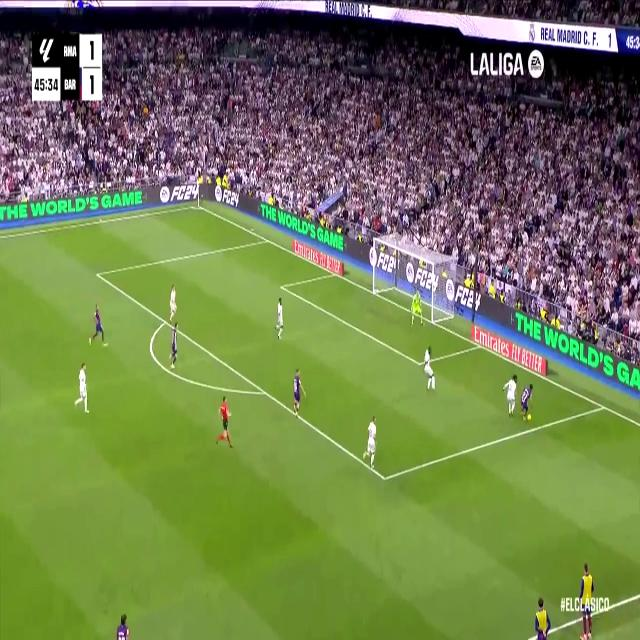bigarea_bottom_inner: (379, 466, 389, 489)
bigarea_bottom_outter: (598, 397, 608, 415)
bigarea_top_inner: (93, 264, 101, 282)
bigarea_top_outter: (263, 232, 270, 246)
bottom_arc_area_intersection: (259, 381, 269, 401)
corner: (194, 200, 202, 211)
smallarea_bottom_inner: (416, 354, 424, 372)
smallarea_bottom_outter: (598, 397, 608, 415)
smallarea_top_inner: (279, 280, 284, 292)
top_arc_area_intersection: (162, 313, 168, 328)
